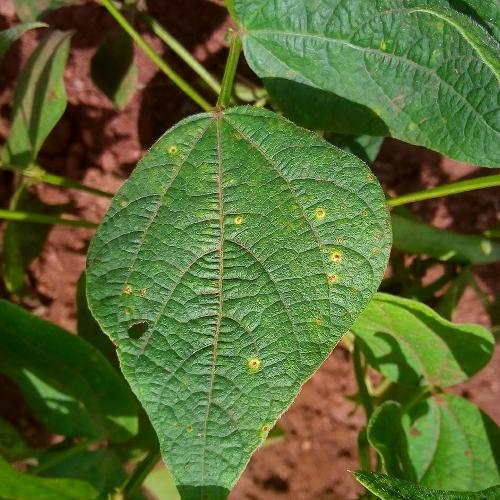mozaik: (85, 116, 220, 418)
